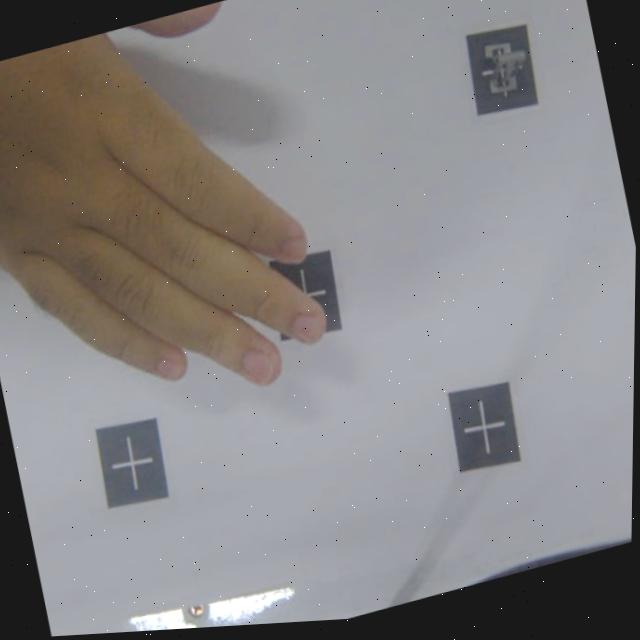pick5: (463, 20, 545, 119)
